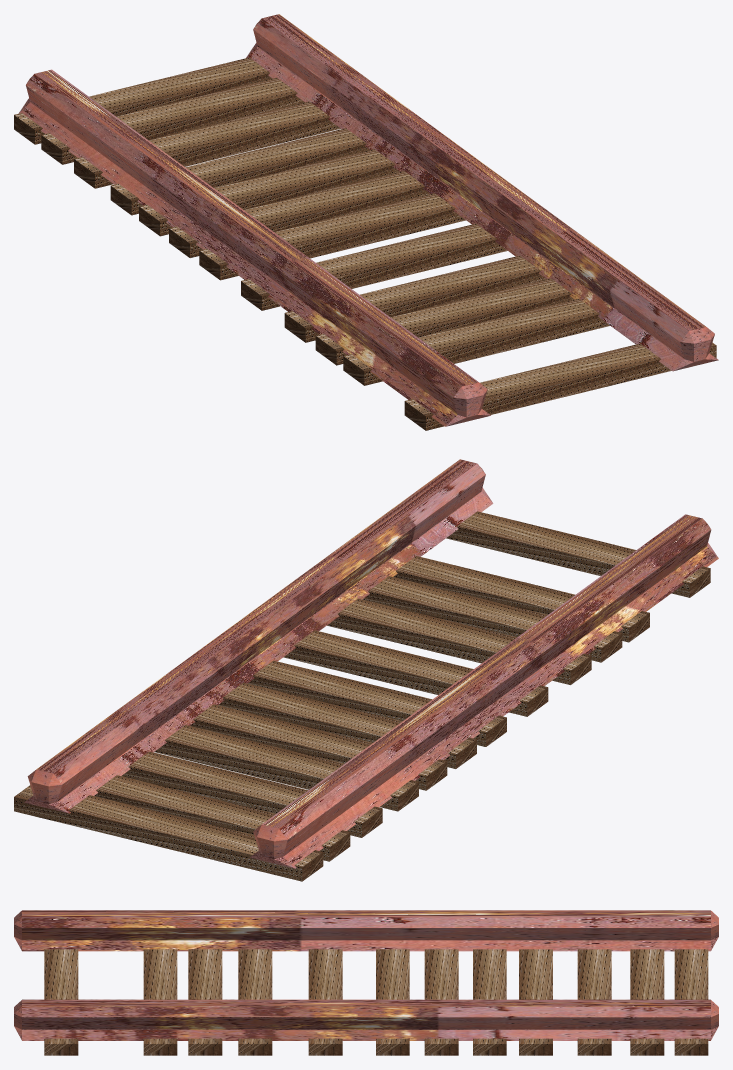
File: traintracks.fbx
3 views of the same model, one above another, from view 1: azimuth 30°, elevation 25°; view 2: azimuth 150°, elevation 25°; view 3: azimuth 270°, elevation 25° (orthographic). The views are drawn at different scales.
Visible parts, largest first — view 1: pCube1, pCube2, pCube3, pCube4, pCube8, pCube14, pCube7, pCube12, pCube6, pCube9, pCube10, pCube11 (+2 smaller); view 2: pCube1, pCube2, pCube13, pCube7, pCube6, pCube3, pCube11, pCube14, pCube5, pCube8, pCube9, pCube10 (+2 smaller); view 3: pCube2, pCube1, pCube14, pCube12, pCube9, pCube7, pCube6, pCube5, pCube3, pCube13, pCube4, pCube11 (+2 smaller).
Part boxes in pixels (box(x1,y1,x2,y2)): pCube1: box(18, 69, 490, 426); pCube2: box(246, 14, 718, 371); pCube3: box(404, 342, 716, 430); pCube4: box(343, 298, 609, 385); pCube8: box(199, 193, 465, 280); pCube14: box(74, 101, 340, 188); pCube7: box(241, 223, 507, 310); pCube12: box(41, 77, 304, 164); pCube6: box(284, 255, 546, 342); pCube9: box(169, 171, 429, 257); pCube10: box(139, 149, 399, 236); pCube11: box(110, 128, 369, 215); pCube1: box(249, 514, 718, 868); pCube2: box(24, 459, 493, 813); pCube13: box(14, 785, 323, 881); pCube7: box(283, 630, 548, 716); pCube6: box(327, 598, 591, 684); pCube3: box(446, 511, 710, 597); pCube11: box(154, 725, 418, 811); pCube14: box(121, 751, 382, 837); pCube5: box(362, 576, 622, 662); pCube8: box(248, 660, 506, 746); pCube9: box(218, 682, 476, 768); pCube10: box(190, 704, 447, 790); pCube2: box(14, 999, 718, 1040); pCube1: box(14, 910, 718, 951); pCube14: box(577, 949, 611, 1055); pCube12: box(630, 949, 664, 1055); pCube9: box(424, 949, 458, 1055); pCube7: box(308, 949, 342, 1055); pCube6: box(238, 949, 272, 1055); pCube5: box(188, 949, 222, 1055); pCube3: box(44, 949, 78, 1055); pCube13: box(674, 949, 708, 1055); pCube4: box(143, 949, 177, 1055); pCube11: box(519, 949, 552, 1055).
Size of the model in its own units: 8.36 by 1.35 by 21.78.
Materials: 2 (2 with a texture image).
